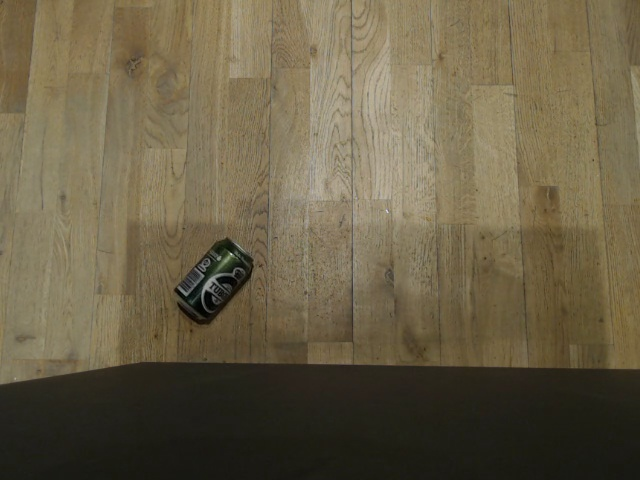beer: (168, 235, 255, 325)
